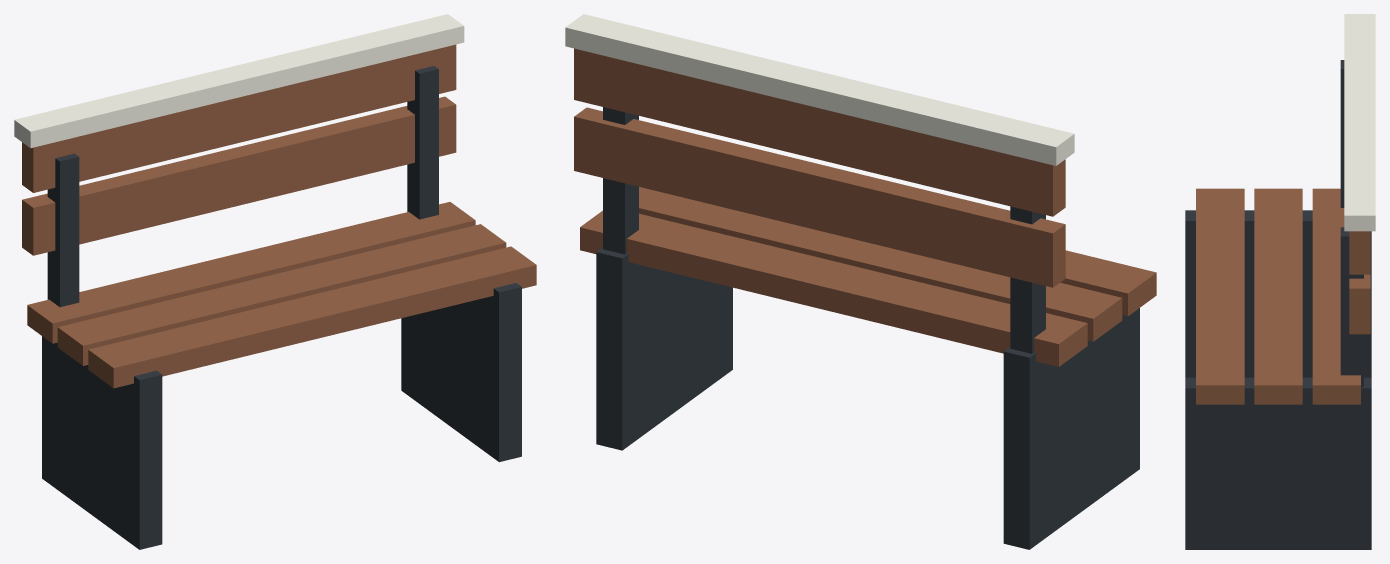
Rendered from three-d-christmas-village-christmas-village-snowy-bench-d8a09f66.glb.
3 views of the same model, side by side, from view 1: azimuth 30°, elevation 25°; view 2: azimuth 150°, elevation 25°; view 3: azimuth 270°, elevation 25° (orthographic). The views are drawn at different scales.
Visible parts, largest first — view 1: snowy-bench; view 2: snowy-bench; view 3: snowy-bench.
Part boxes in pixels (<box>): snowy-bench: <box>14,14,536,549</box>; snowy-bench: <box>565,14,1156,549</box>; snowy-bench: <box>1185,14,1375,549</box>.
Bounding box in the file's own units: 1.23 × 0.985 × 0.49.
